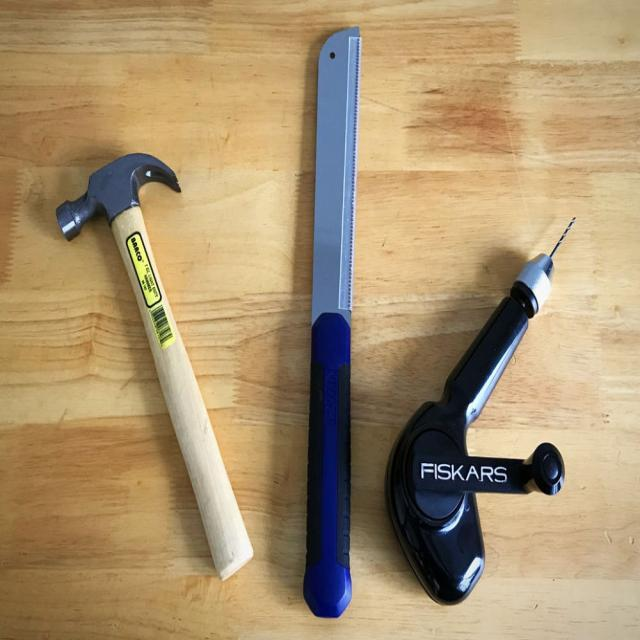hammer: (42, 118, 262, 594)
